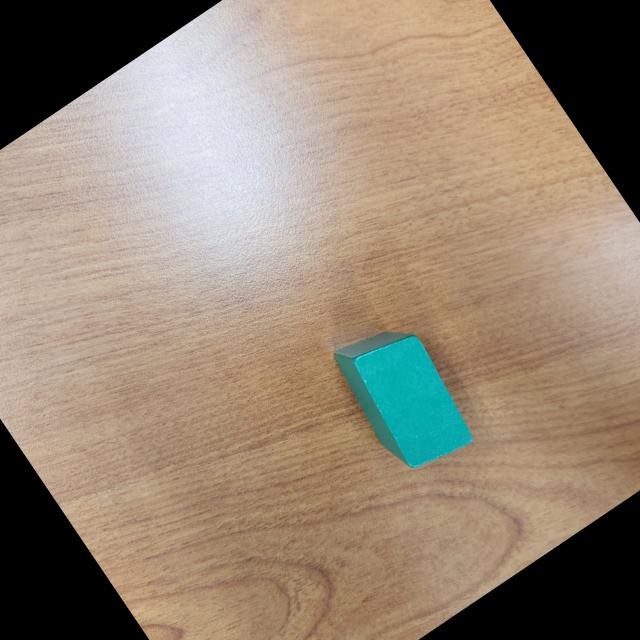green: (324, 309, 485, 486)
